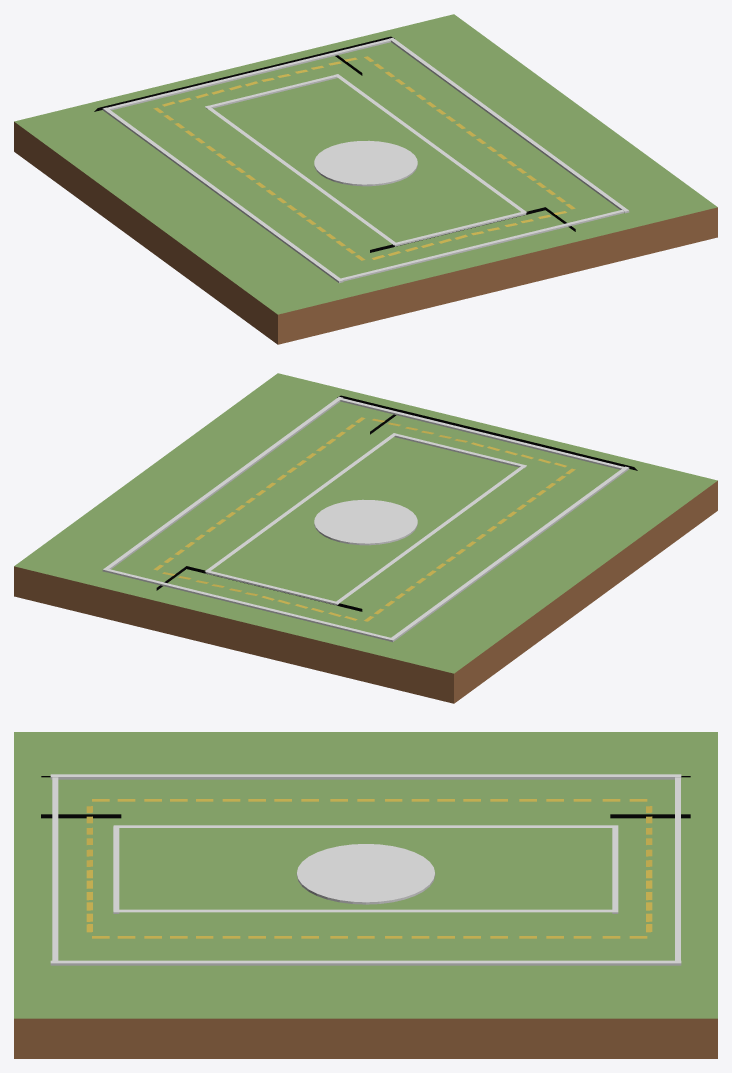
File: ground_v3.gltf
The picture shows the model from 3 angles, top to bottom: view 1: azimuth 30°, elevation 25°; view 2: azimuth 150°, elevation 25°; view 3: azimuth 270°, elevation 25°; orthographic projection. The views are drawn at different scales.
Visible parts, largest first — view 1: Cube; view 2: Cube; view 3: Cube.
Part boxes in pixels (<box>): Cube: <box>14,14,717,344</box>; Cube: <box>14,373,717,703</box>; Cube: <box>14,732,717,1058</box>.
Size of the model in its own units: 56.68 by 4.36 by 58.86.
